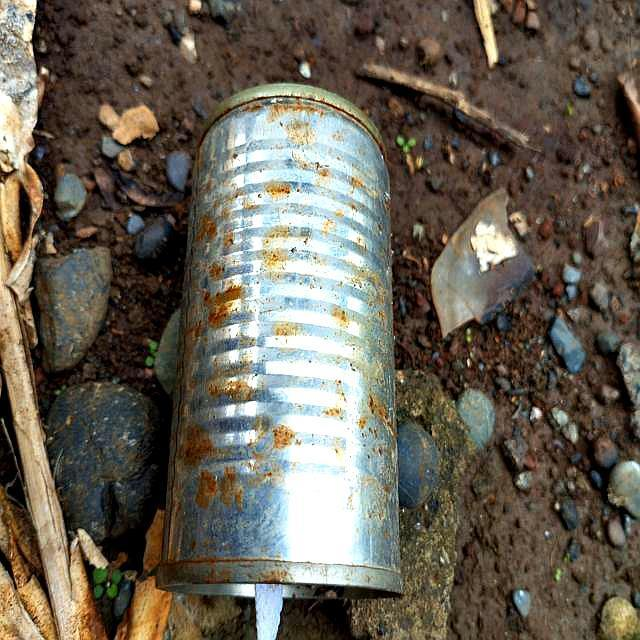Non-biodegradable: (153, 81, 407, 606)
